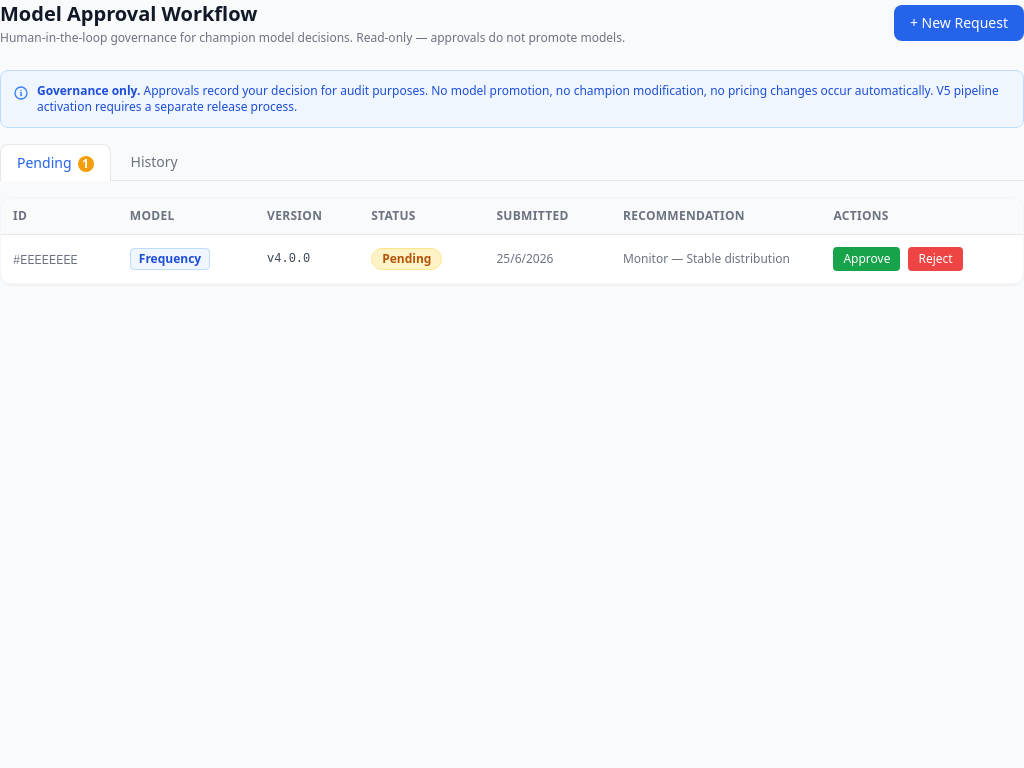
Test: ApprovalPanel — approve flow › opens review dialog on Approve click
Click the button with test id "approve-btn".
click(867, 259)  # box x1=833 y1=247 x2=900 y2=271
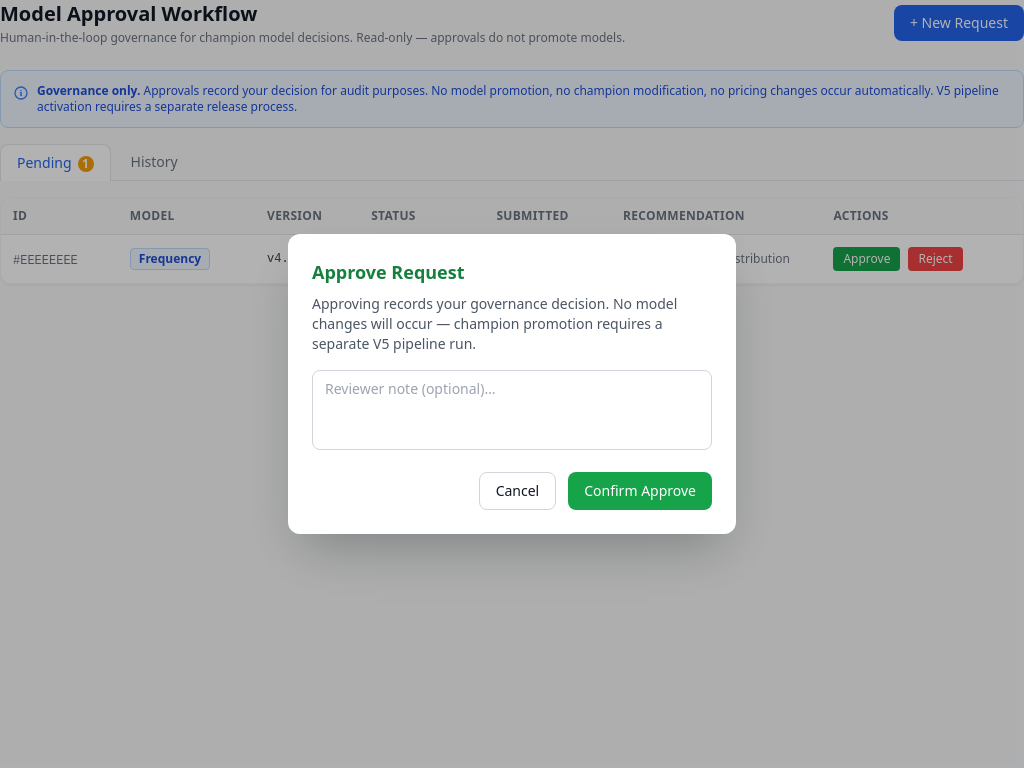
Expected: the element with test id "review-dialog" is shown
